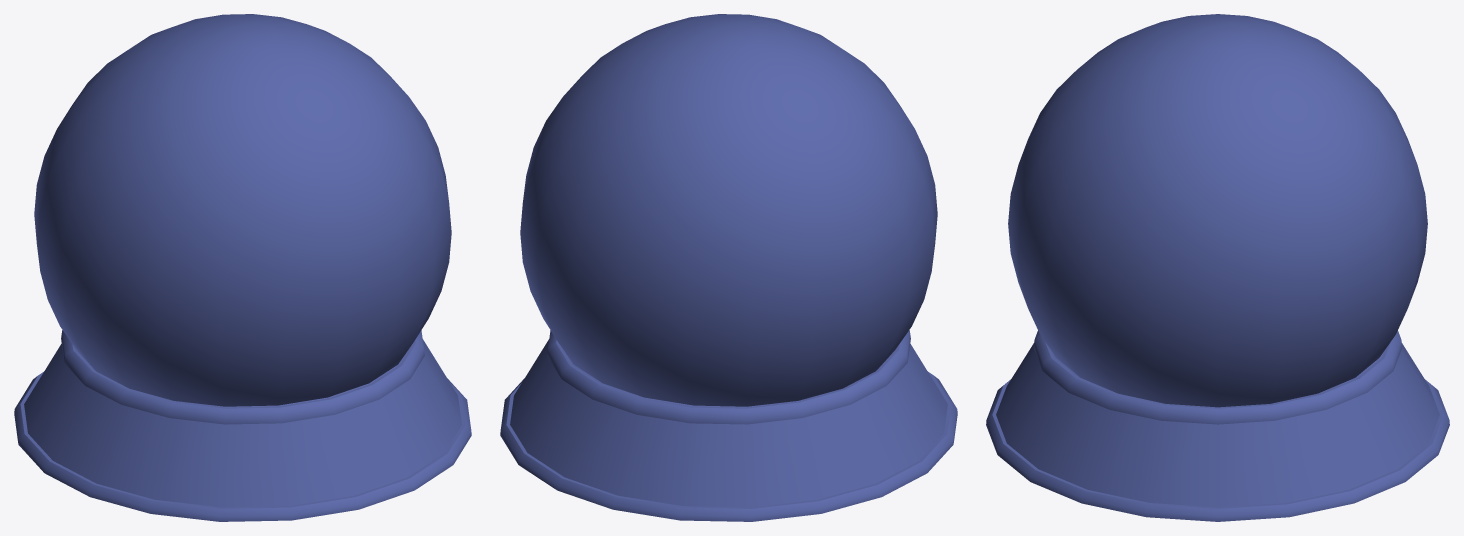
File: Snow_Globe.fbx
The picture shows the model from 3 angles, left to right: view 1: azimuth 30°, elevation 25°; view 2: azimuth 150°, elevation 25°; view 3: azimuth 270°, elevation 25°; orthographic projection.
Visible parts, largest first — view 1: SG_01, SG_04; view 2: SG_01, SG_04; view 3: SG_01, SG_04.
Boxes of the visible parts, x1,y1,x2,y2 form: SG_01: (34,14,451,406); SG_04: (14,330,471,521); SG_01: (520,14,937,406); SG_04: (500,330,957,521); SG_01: (1008,14,1427,407); SG_04: (986,330,1449,521).
Bounding box in the file's own units: 22.11 × 20.83 × 22.37.
